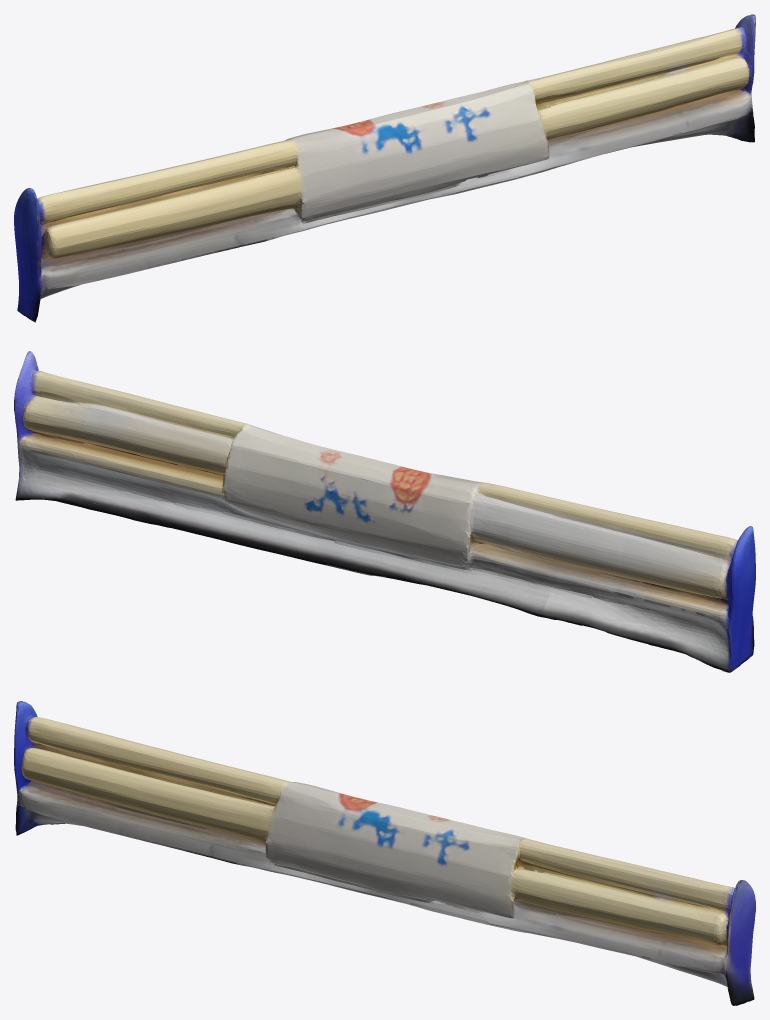
The model's file is chopsticks.fbx.
3 views of the same model, one above another, from view 1: azimuth 30°, elevation 25°; view 2: azimuth 150°, elevation 25°; view 3: azimuth 330°, elevation 25° (orthographic).
Parts seen in each view (by area): view 1: world; view 2: world; view 3: world.
Part boxes in pixels (x1,y1,x2,y2): world: [14, 14, 755, 322]; world: [14, 351, 755, 672]; world: [14, 701, 755, 1005].
Size of the model in its own units: 99.86 by 17.9 by 10.37.
